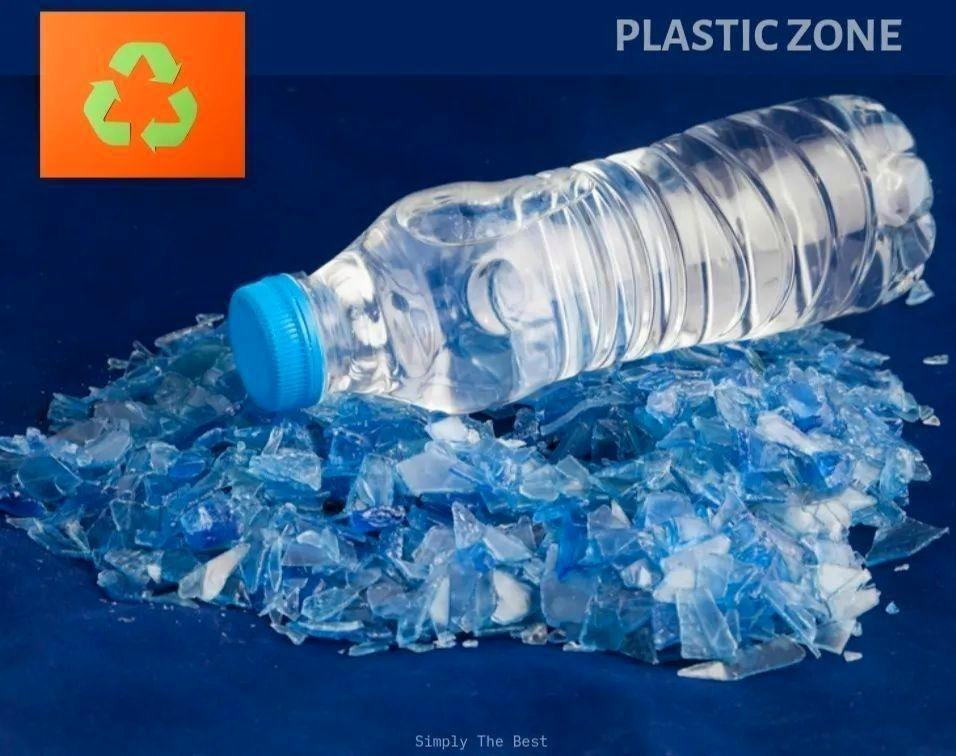bottle-plastic: (219, 91, 941, 421)
